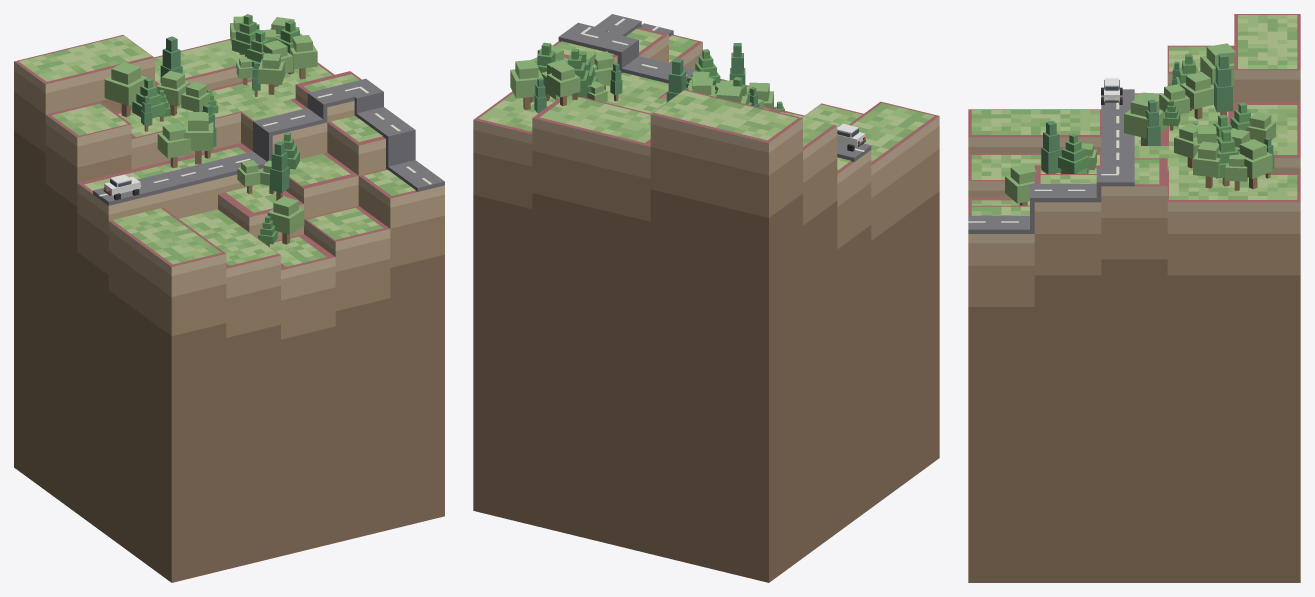
File: block_21_sewersystem_0.glb
The picture shows the model from 3 angles, left to right: view 1: azimuth 30°, elevation 25°; view 2: azimuth 150°, elevation 25°; view 3: azimuth 270°, elevation 25°; orthographic projection. The views are drawn at different scales.
Parts seen in each view (by area): view 1: Patch_UpperRight_b22_SL, Green_UpperRight_b21_SL, Roads_UpperRight_b22_SL, URTree_21_6_SL, URTree_21_13_SL, URTree_21_3_SL, URTree_21_8_SL, URTree_21_11_SL, URTree_21_23_SL, URTree_21_26_SL, URTree_21_10_SL, URTree_21_2_SL (+5 smaller); view 2: Patch_UpperRight_b22_SL, Green_UpperRight_b21_SL, Roads_UpperRight_b22_SL, URTree_21_25_SL, URTree_21_17_SL, URTree_21_7_SL; view 3: Patch_UpperRight_b22_SL, Green_UpperRight_b21_SL, Roads_UpperRight_b22_SL, URTree_21_3_SL, URTree_21_25_SL, URTree_21_7_SL, URTree_21_10_SL, URTree_21_13_SL, URTree_21_23_SL, URTree_21_11_SL, URTree_21_15_SL, URTree_21_6_SL (+8 smaller).
Part boxes in pixels (x1=…): Patch_UpperRight_b22_SL: x1=14, y1=35, x2=444, y2=582; Green_UpperRight_b21_SL: x1=19, y1=35, x2=415, y2=266; Roads_UpperRight_b22_SL: x1=93, y1=78, x2=444, y2=205; URTree_21_6_SL: x1=104, y1=62, x2=147, y2=117; URTree_21_13_SL: x1=267, y1=196, x2=304, y2=244; URTree_21_3_SL: x1=183, y1=112, x2=213, y2=164; URTree_21_8_SL: x1=157, y1=122, x2=190, y2=168; URTree_21_11_SL: x1=270, y1=141, x2=289, y2=200; URTree_21_23_SL: x1=290, y1=35, x2=317, y2=79; URTree_21_26_SL: x1=258, y1=53, x2=284, y2=94; URTree_21_10_SL: x1=156, y1=71, x2=190, y2=115; URTree_21_2_SL: x1=132, y1=77, x2=165, y2=125; Patch_UpperRight_b22_SL: x1=473, y1=27, x2=939, y2=582; Green_UpperRight_b21_SL: x1=478, y1=29, x2=934, y2=169; Roads_UpperRight_b22_SL: x1=558, y1=14, x2=871, y2=161; URTree_21_25_SL: x1=510, y1=59, x2=543, y2=109; URTree_21_17_SL: x1=547, y1=63, x2=580, y2=106; URTree_21_7_SL: x1=666, y1=58, x2=688, y2=102; Patch_UpperRight_b22_SL: x1=968, y1=14, x2=1300, y2=582; Green_UpperRight_b21_SL: x1=971, y1=15, x2=1297, y2=215; Roads_UpperRight_b22_SL: x1=968, y1=89, x2=1134, y2=233; URTree_21_3_SL: x1=1124, y1=94, x2=1167, y2=145; URTree_21_25_SL: x1=1239, y1=139, x2=1272, y2=189; URTree_21_7_SL: x1=1214, y1=53, x2=1232, y2=115; URTree_21_10_SL: x1=1180, y1=71, x2=1213, y2=119; URTree_21_13_SL: x1=1005, y1=164, x2=1036, y2=205; URTree_21_23_SL: x1=1193, y1=141, x2=1220, y2=188; URTree_21_11_SL: x1=1041, y1=120, x2=1061, y2=173; URTree_21_15_SL: x1=1058, y1=133, x2=1089, y2=173; URTree_21_6_SL: x1=1200, y1=43, x2=1235, y2=85.
Bounding box in the file's own units: 9.55 × 14.16 × 9.5.
